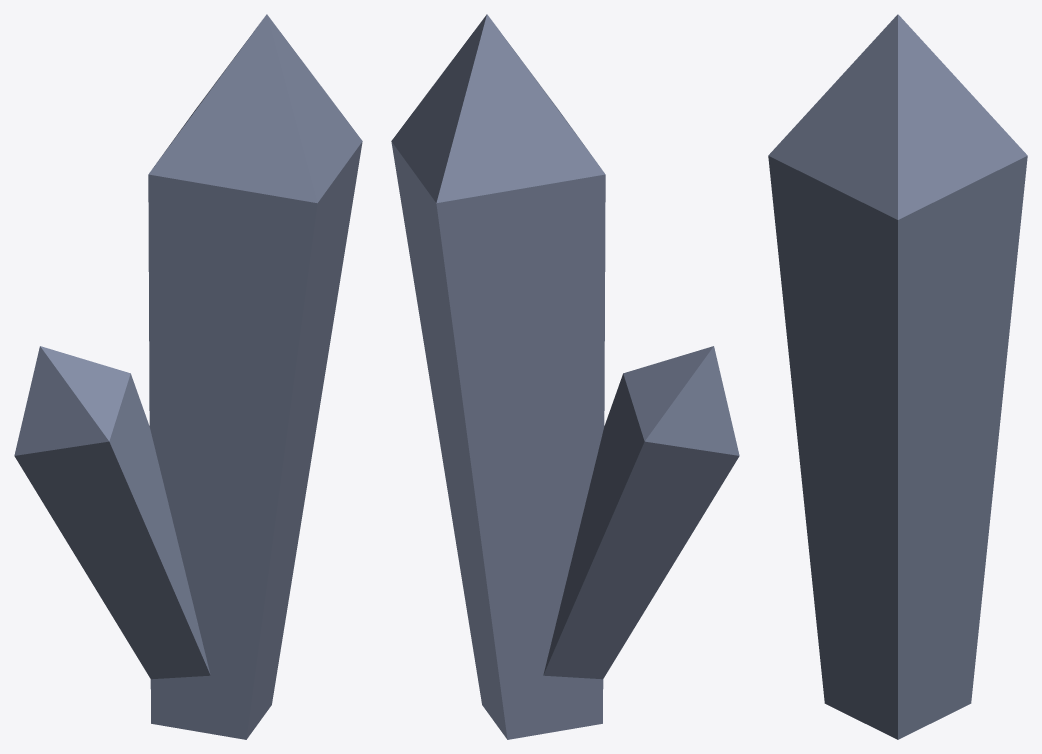
File: crystal.fbx
The picture shows the model from 3 angles, left to right: view 1: azimuth 30°, elevation 25°; view 2: azimuth 150°, elevation 25°; view 3: azimuth 270°, elevation 25°; orthographic projection. The views are drawn at different scales.
Visible parts, largest first — view 1: polySurface5; view 2: polySurface5; view 3: polySurface5.
Boxes of the visible parts, x1,y1,x2,y2 form: polySurface5: (14,14,362,739); polySurface5: (391,14,739,739); polySurface5: (768,14,1027,739).
Bounding box in the file's own units: 3.87 × 7.34 × 2.39.
